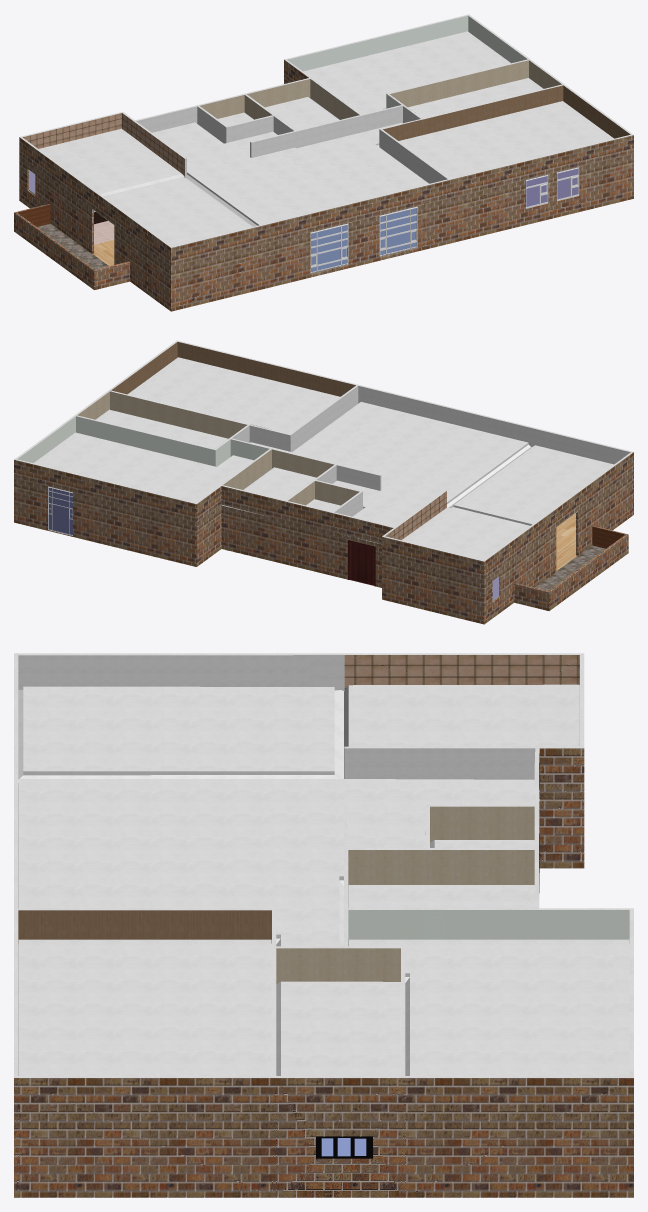
File: home.FBX
The picture shows the model from 3 angles, top to bottom: view 1: azimuth 30°, elevation 25°; view 2: azimuth 150°, elevation 25°; view 3: azimuth 270°, elevation 25°; orthographic projection. The views are drawn at different scales.
Visible parts, largest first — view 1: 1 Outerior walls, 4 Living room ceiling, 8 Master bedroom ceiling, 9 Bedroom ceiling, 4 Living room wall, 2 Restaurant ceiling, 3 Kitchen ceiling, 8 Master bedroom walls, 9 Bedroom wall, 7 Master bedroom bathroom walls, 3 Kitchen walls(Safflower Marble), 7 Master bedroom bathroom ceiling (+10 smaller); view 2: 1 Outerior walls, 4 Living room ceiling, 8 Master bedroom ceiling, 9 Bedroom ceiling, 2 Restaurant ceiling, 4 Living room wall, 9 Bedroom wall, 8 Master bedroom walls, 3 Kitchen ceiling, 7 Master bedroom bathroom walls, 6 Bedroom, bathroom walls, 7 Master bedroom bathroom ceiling (+8 smaller); view 3: 1 Outerior walls, 4 Living room ceiling, 8 Master bedroom ceiling, 9 Bedroom ceiling, 2 Restaurant ceiling, 3 Kitchen ceiling, 7 Master bedroom bathroom ceiling, 2 Restaurant walls, 9 Bedroom wall, 8 Master bedroom walls, 3 Kitchen walls(Safflower Marble), 6 Bedroom, bathroom walls (+6 smaller).
Part boxes in pixels (left/top/right/bottom): 1 Outerior walls: left=14, top=14, right=633, bottom=311; 4 Living room ceiling: left=152, top=122, right=428, bottom=233; 8 Master bedroom ceiling: left=399, top=101, right=613, bottom=180; 9 Bedroom ceiling: left=303, top=31, right=510, bottom=114; 4 Living room wall: left=136, top=106, right=447, bottom=183; 2 Restaurant ceiling: left=103, top=177, right=252, bottom=246; 3 Kitchen ceiling: left=39, top=128, right=184, bottom=196; 8 Master bedroom walls: left=383, top=85, right=630, bottom=208; 9 Bedroom wall: left=287, top=15, right=527, bottom=108; 7 Master bedroom bathroom walls: left=390, top=60, right=561, bottom=107; 3 Kitchen walls(Safflower Marble): left=23, top=113, right=184, bottom=177; 7 Master bedroom bathroom ceiling: left=408, top=78, right=543, bottom=118; 1 Outerior walls: left=14, top=340, right=633, bottom=624; 4 Living room ceiling: left=250, top=402, right=530, bottom=544; 8 Master bedroom ceiling: left=127, top=357, right=340, bottom=433; 9 Bedroom ceiling: left=34, top=432, right=253, bottom=502; 2 Restaurant ceiling: left=448, top=445, right=613, bottom=527; 4 Living room wall: left=232, top=386, right=531, bottom=516; 9 Bedroom wall: left=17, top=416, right=269, bottom=536; 8 Master bedroom walls: left=111, top=342, right=355, bottom=428; 3 Kitchen ceiling: left=402, top=507, right=527, bottom=560; 7 Master bedroom bathroom walls: left=77, top=391, right=246, bottom=438; 6 Bedroom, bathroom walls: left=223, top=449, right=333, bottom=489; 7 Master bedroom bathroom ceiling: left=95, top=409, right=228, bottom=448; 1 Outerior walls: left=14, top=653, right=633, bottom=1197; 4 Living room ceiling: left=18, top=779, right=539, bottom=946; 8 Master bedroom ceiling: left=18, top=939, right=271, bottom=1075; 9 Bedroom ceiling: left=348, top=939, right=629, bottom=1075; 2 Restaurant ceiling: left=18, top=686, right=343, bottom=782; 3 Kitchen ceiling: left=344, top=684, right=579, bottom=778; 7 Master bedroom bathroom ceiling: left=276, top=981, right=400, bottom=1075; 2 Restaurant walls: left=18, top=655, right=344, bottom=691; 9 Bedroom wall: left=348, top=910, right=629, bottom=945; 8 Master bedroom walls: left=18, top=910, right=271, bottom=943; 3 Kitchen walls(Safflower Marble): left=344, top=655, right=579, bottom=689; 6 Bedroom, bathroom walls: left=348, top=850, right=534, bottom=884.
Size of the model in its own units: 3260 by 400 by 1868.
